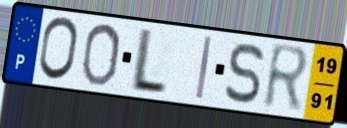I: (194, 34, 214, 102)
L: (127, 26, 170, 97)
O: (36, 15, 80, 84), (79, 22, 123, 88)
R: (260, 41, 312, 115)
S: (222, 41, 267, 106)
